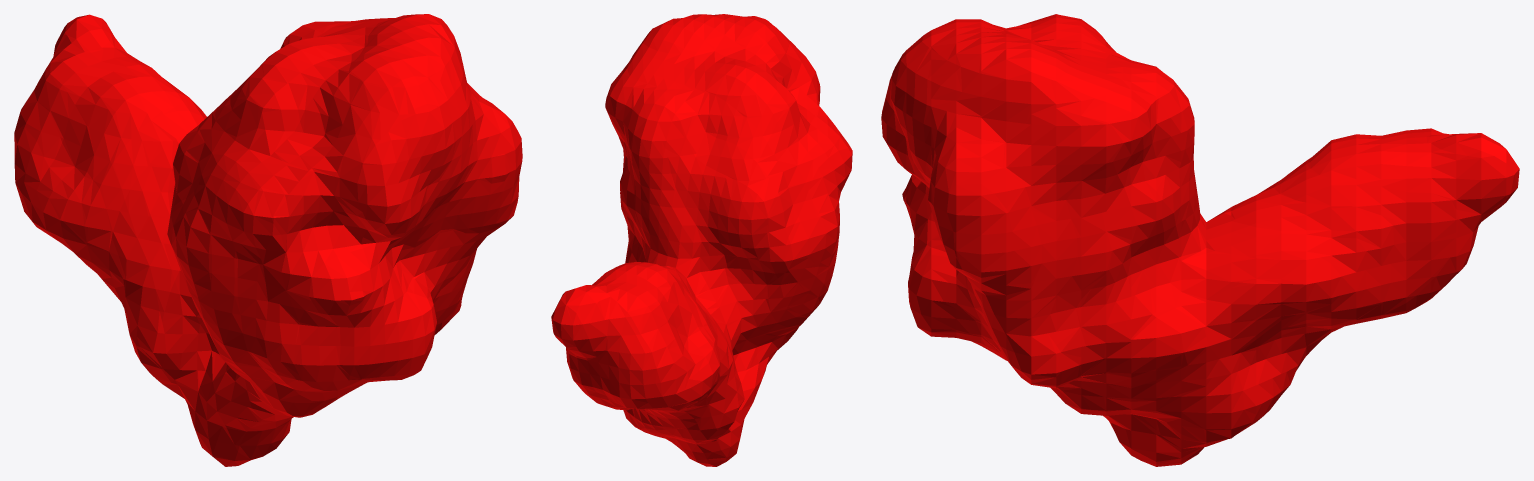
File: dacA_coarse.dae
The picture shows the model from 3 angles, left to right: view 1: azimuth 30°, elevation 25°; view 2: azimuth 150°, elevation 25°; view 3: azimuth 270°, elevation 25°; orthographic projection. The views are drawn at different scales.
Visible parts, largest first — view 1: dacA; view 2: dacA; view 3: dacA.
Boxes of the visible parts, <box> form: dacA: <box>14,14,522,466</box>; dacA: <box>551,14,852,466</box>; dacA: <box>881,14,1519,466</box>.
Size of the model in its own units: 44.26 by 68.66 by 84.18.
